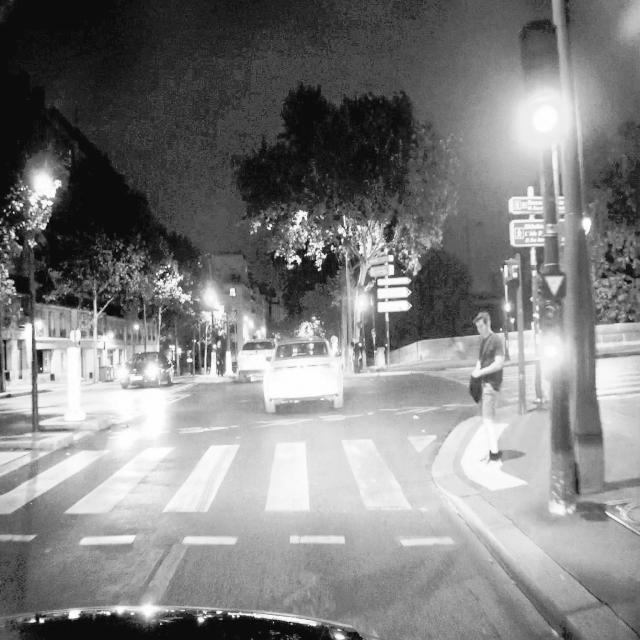Light: (520, 21, 562, 137), (542, 300, 560, 362)
Sign: (509, 197, 566, 215), (510, 220, 544, 247), (542, 274, 564, 298)
